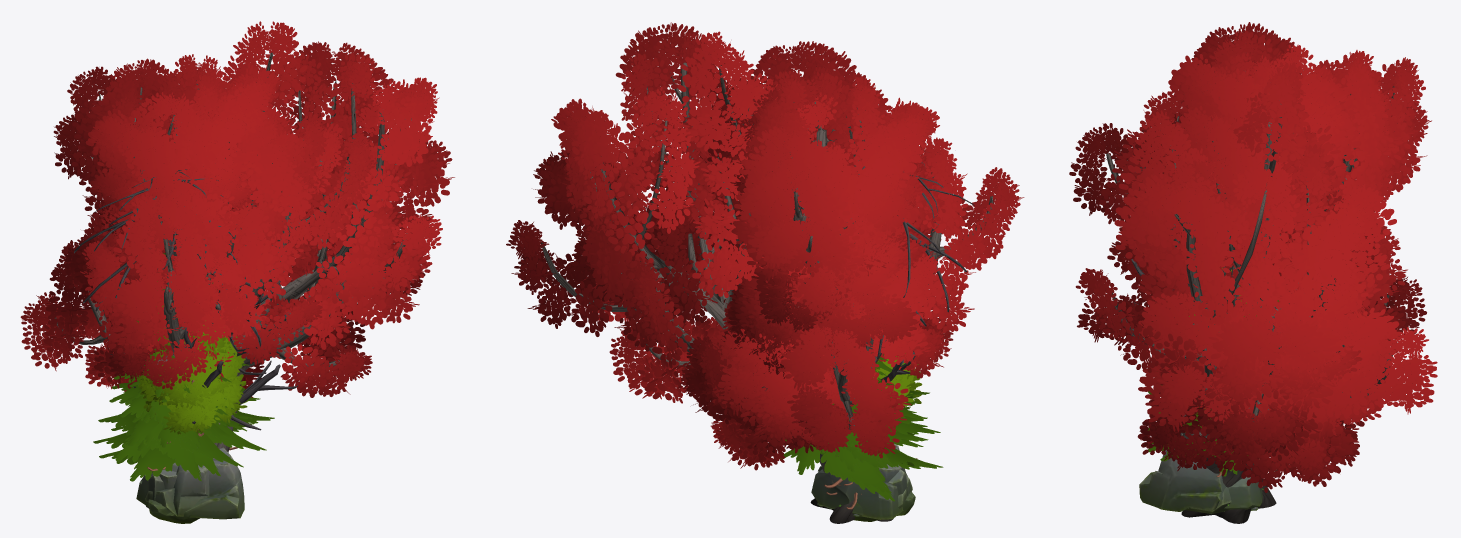
File: gen-nature.glb
The picture shows the model from 3 angles, left to right: view 1: azimuth 30°, elevation 25°; view 2: azimuth 150°, elevation 25°; view 3: azimuth 270°, elevation 25°; orthographic projection. The views are drawn at different scales.
Visible parts, largest first — view 1: TwistedTree_3, TwistedTree_1, TwistedTree_5, Rock_Medium_3, Pine_2, Pine_5, Pine_4, CommonTree_1, CommonTree_3, CommonTree_2, Rock_Medium_1, DeadTree_1 (+2 smaller); view 2: TwistedTree_1, TwistedTree_3, TwistedTree_5, Pine_5, Rock_Medium_2, Pine_2, DeadTree_3, Pine_4; view 3: TwistedTree_1, TwistedTree_3, TwistedTree_5, Rock_Medium_3, Rock_Medium_2.
Part boxes in pixels (box(x1,y1,x2,y2)): TwistedTree_3: box(20, 54, 377, 397); TwistedTree_1: box(106, 21, 454, 508); TwistedTree_5: box(60, 58, 330, 303); Rock_Medium_3: box(148, 447, 244, 523); Pine_2: box(99, 340, 254, 481); Pine_5: box(93, 349, 274, 476); Pine_4: box(98, 253, 249, 471); CommonTree_1: box(139, 335, 247, 434); CommonTree_3: box(146, 299, 245, 411); CommonTree_2: box(137, 330, 246, 436); Rock_Medium_1: box(145, 465, 209, 516); DeadTree_1: box(110, 271, 297, 430); TwistedTree_1: box(506, 22, 929, 523); TwistedTree_3: box(678, 41, 1024, 470); TwistedTree_5: box(705, 67, 949, 383); Pine_5: box(785, 357, 932, 493); Rock_Medium_2: box(811, 464, 903, 519); Pine_2: box(780, 377, 943, 501); DeadTree_3: box(804, 145, 974, 358); Pine_4: box(835, 352, 940, 509); TwistedTree_1: box(1075, 62, 1437, 523); TwistedTree_3: box(1069, 28, 1431, 480); TwistedTree_5: box(1133, 22, 1425, 319); Rock_Medium_3: box(1139, 449, 1225, 511); Rock_Medium_2: box(1224, 477, 1262, 509).
Size of the model in its own units: 15.83 by 16.86 by 11.71.
Materials: 12 (12 with a texture image).
